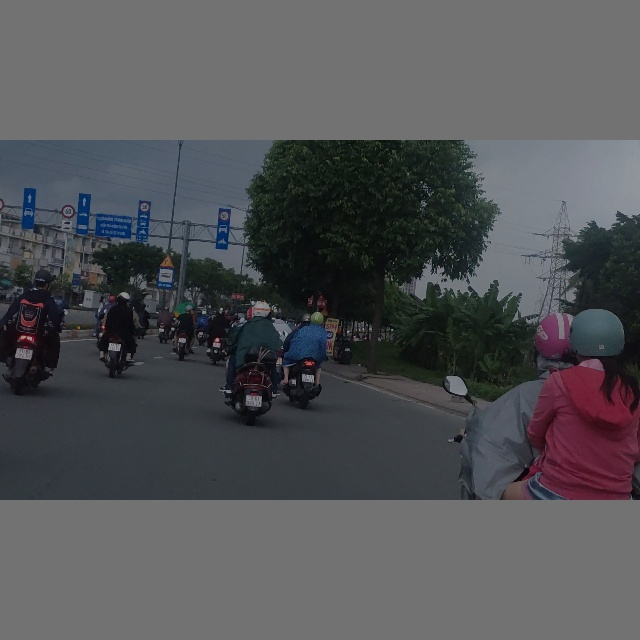I.434a: (157, 267, 173, 289)
P.127*50: (139, 201, 150, 212), (219, 211, 229, 221)
P.127*60: (61, 204, 75, 218)
S.505a*Xe tai va cong: (61, 220, 73, 233)
W.201b: (159, 254, 175, 268)
